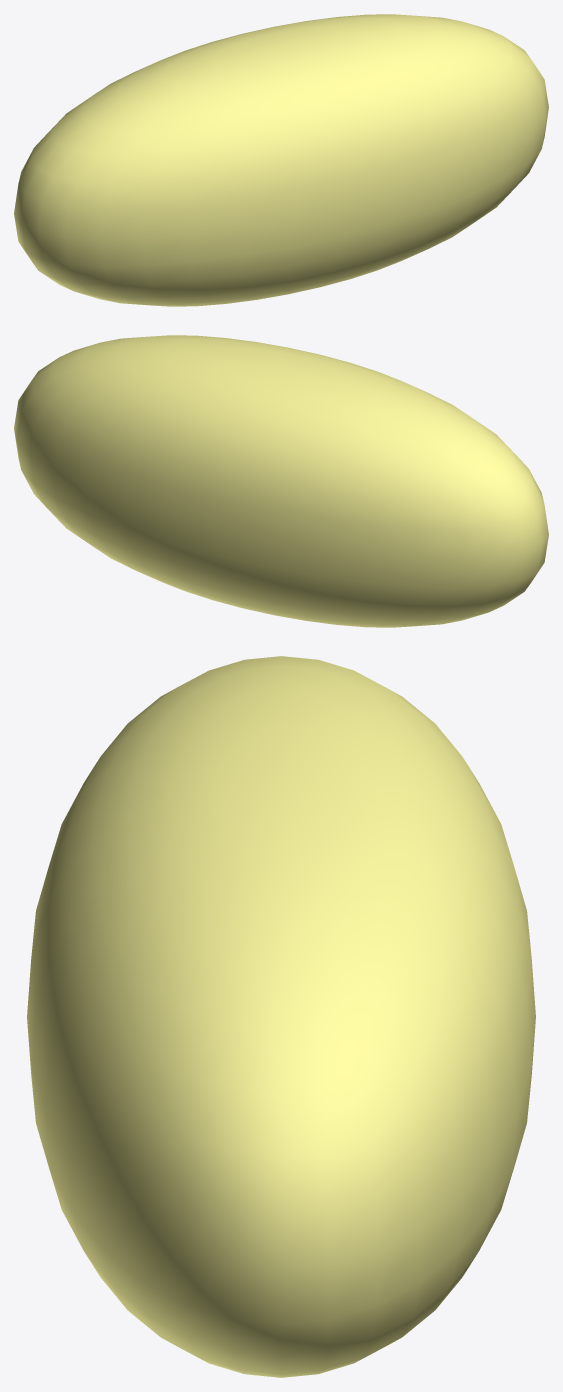
3 renders of one model, top to bottom at view 1: azimuth 30°, elevation 25°; view 2: azimuth 150°, elevation 25°; view 3: azimuth 270°, elevation 25°, orthographic. The views are drawn at different scales.
Visible parts, largest first — view 1: item; view 2: item; view 3: item.
Part boxes in pixels (x1,y1,x2,y2): item: [14, 14, 548, 306]; item: [14, 335, 548, 627]; item: [27, 656, 535, 1377].
Bounding box in the file's own units: 0.0219 × 0.00928 × 0.00928.
